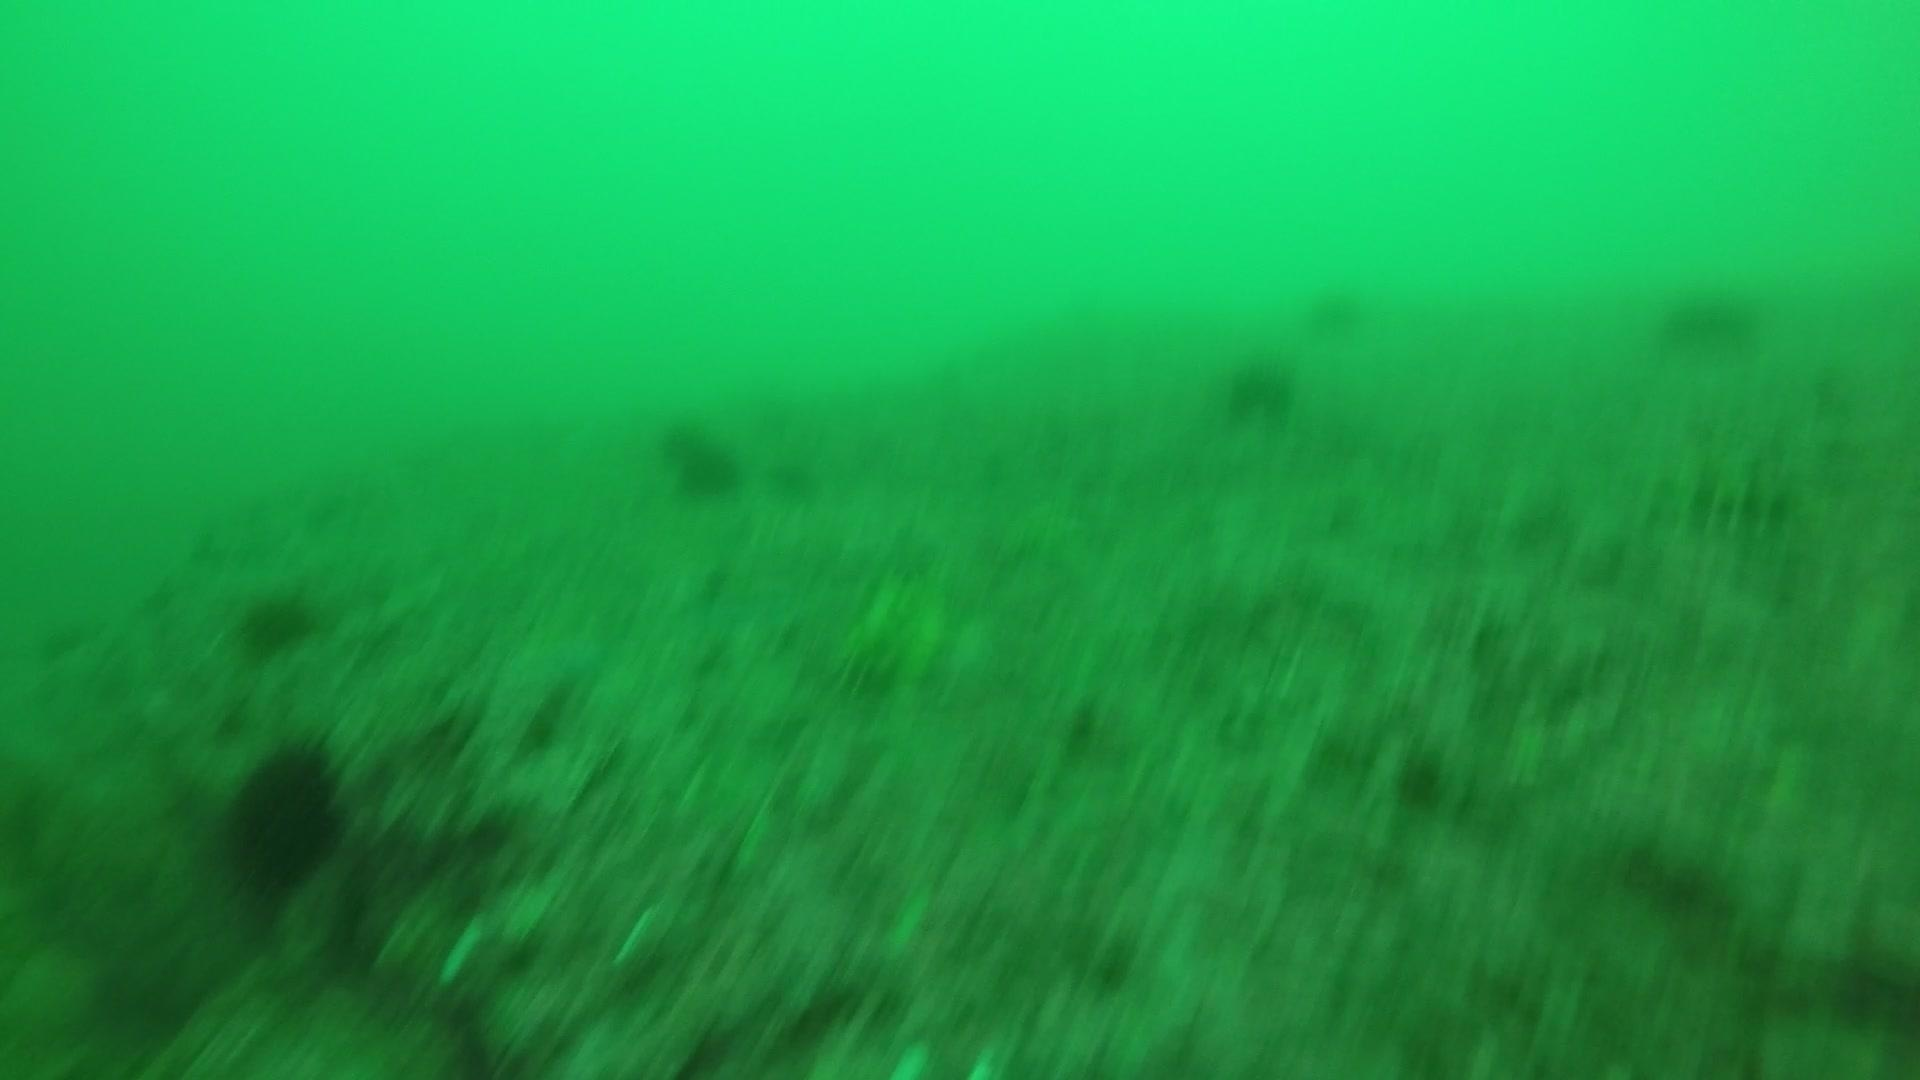echinus: (214, 735, 353, 901), (1656, 278, 1763, 357), (232, 583, 320, 659), (1218, 349, 1299, 425), (1303, 280, 1370, 338), (678, 442, 742, 500), (766, 448, 824, 504), (651, 415, 709, 471)
holothurian: (1623, 447, 1801, 535)
starfish: (825, 568, 996, 702)
